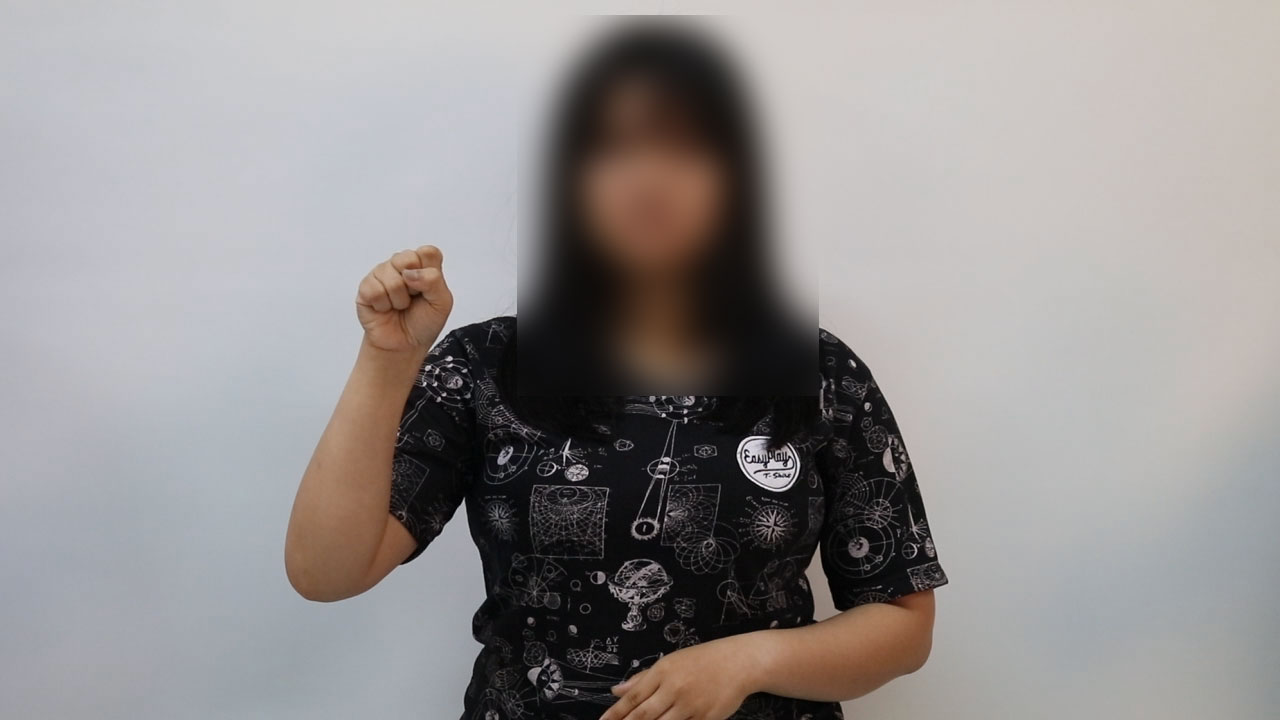sor: (341, 234, 460, 367)
